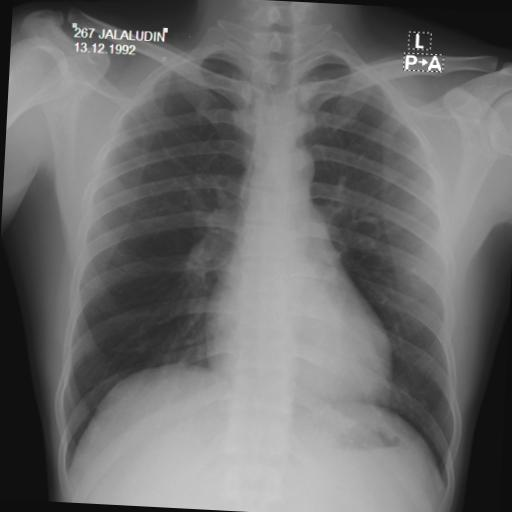kardiomegali: (48, 34, 478, 494)
